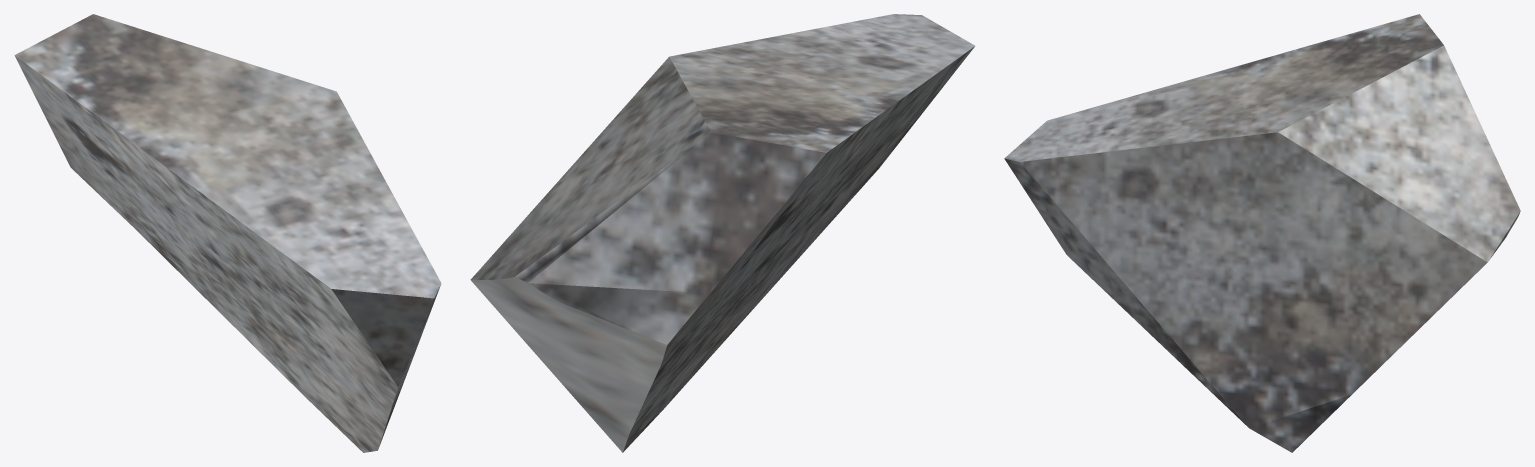
Rendered from Asteroid_Medium_001_02_006_03_011.fbx.
3 renders of one model, left to right at view 1: azimuth 30°, elevation 25°; view 2: azimuth 150°, elevation 25°; view 3: azimuth 270°, elevation 25°, orthographic. The views are drawn at different scales.
Visible parts, largest first — view 1: Asteroid_Medium_001_02_006_03_011; view 2: Asteroid_Medium_001_02_006_03_011; view 3: Asteroid_Medium_001_02_006_03_011.
Part boxes in pixels (<box>): Asteroid_Medium_001_02_006_03_011: <box>14,14,441,452</box>; Asteroid_Medium_001_02_006_03_011: <box>470,14,975,452</box>; Asteroid_Medium_001_02_006_03_011: <box>1004,14,1520,452</box>.
Size of the model in its own units: 3.18 by 4.27 by 5.93.
